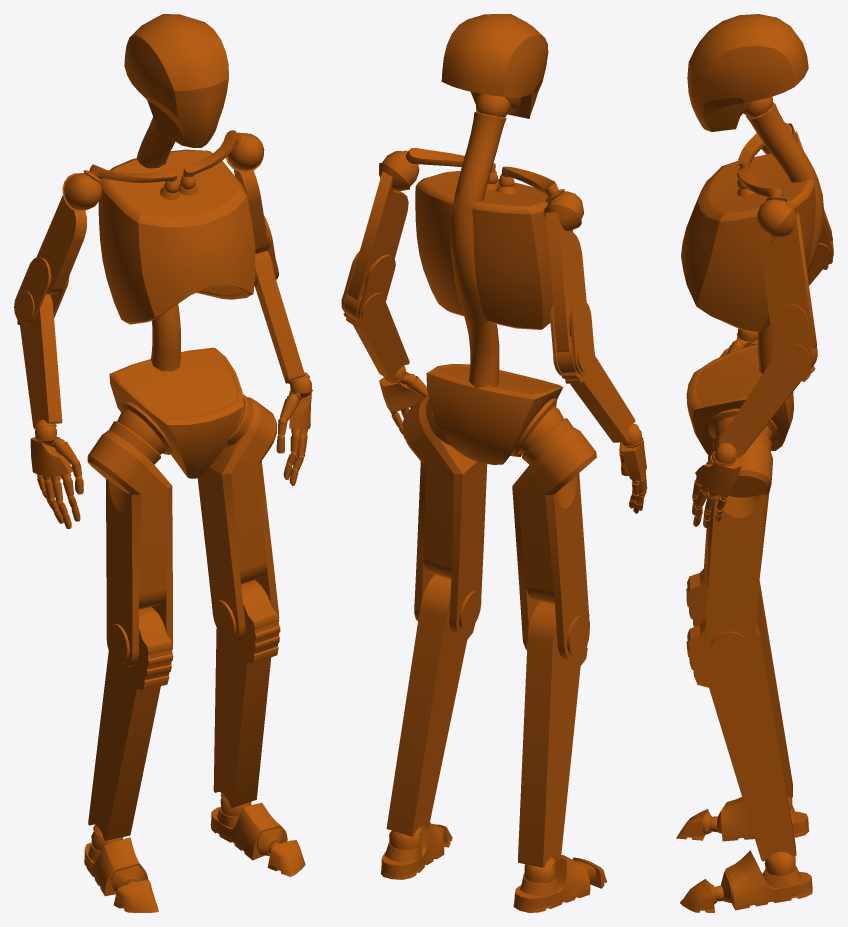
Rendered from RobotAnimacja_000025.obj.
The picture shows the model from 3 angles, left to right: view 1: azimuth 30°, elevation 25°; view 2: azimuth 150°, elevation 25°; view 3: azimuth 270°, elevation 25°; orthographic projection. The views are drawn at different scales.
Parts seen in each view (by area): view 1: free3dmodel.001; view 2: free3dmodel.001; view 3: free3dmodel.001.
Boxes of the visible parts, <box> form: free3dmodel.001: <box>14,14,312,912</box>; free3dmodel.001: <box>341,14,647,912</box>; free3dmodel.001: <box>676,14,833,912</box>.
Size of the model in its own units: 1.98 by 6.04 by 1.02.
